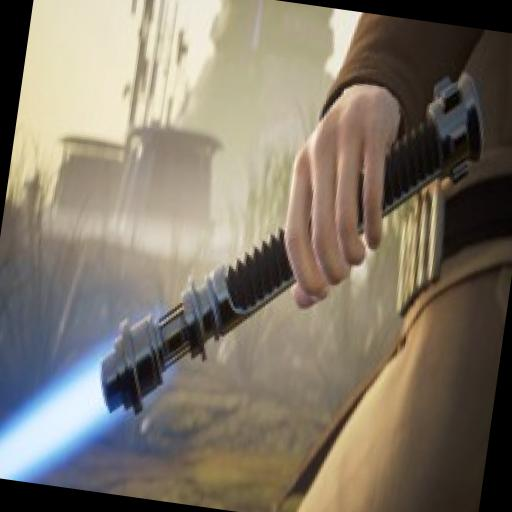lightsaber: (0, 11, 505, 512)
